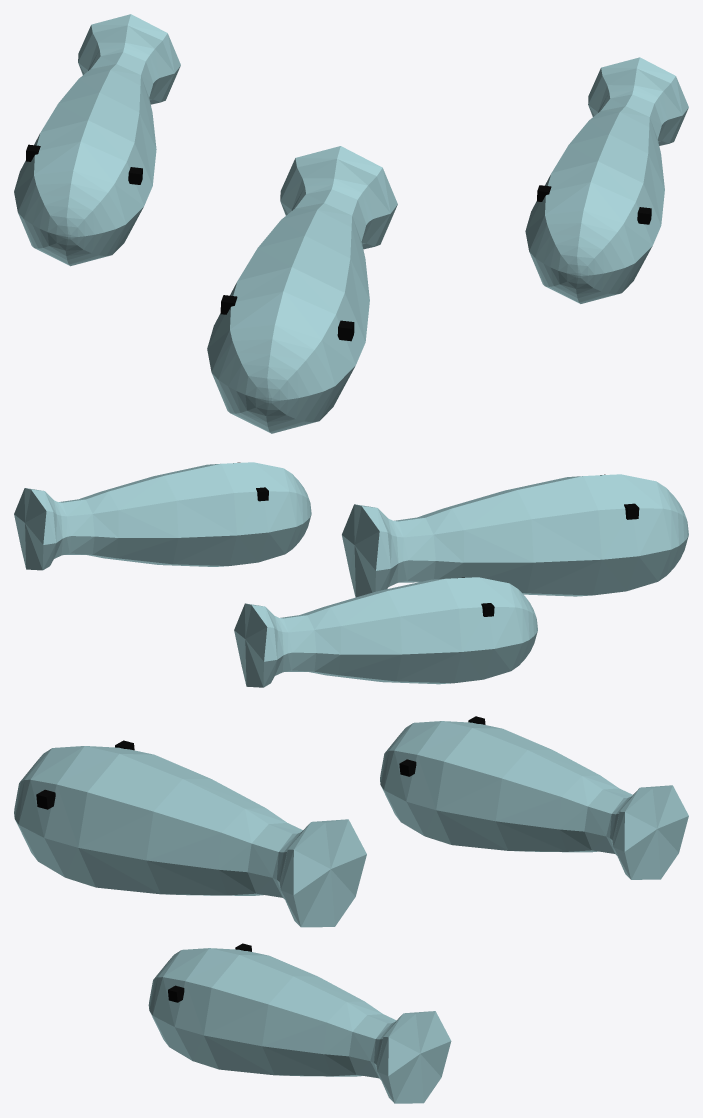
Rendered from Fish.dae.
3 views of the same model, one above another, from view 1: azimuth 30°, elevation 25°; view 2: azimuth 150°, elevation 25°; view 3: azimuth 270°, elevation 25° (orthographic). The views are drawn at different scales.
Visible parts, largest first — view 1: Cube, Cube_005, Cube_006; view 2: Cube, Cube_005, Cube_006; view 3: Cube, Cube_005, Cube_006.
Part boxes in pixels (x1,y1,x2,y2): Cube: (207,146,397,433); Cube_005: (14,14,180,266); Cube_006: (525,57,688,303); Cube: (342,474,688,597); Cube_005: (234,577,537,687); Cube_006: (14,462,311,570); Cube: (14,746,366,927); Cube_005: (380,721,688,879); Cube_006: (148,948,451,1103).
Bounding box in the file's own units: 0.8985 × 0.8562 × 0.2308.
